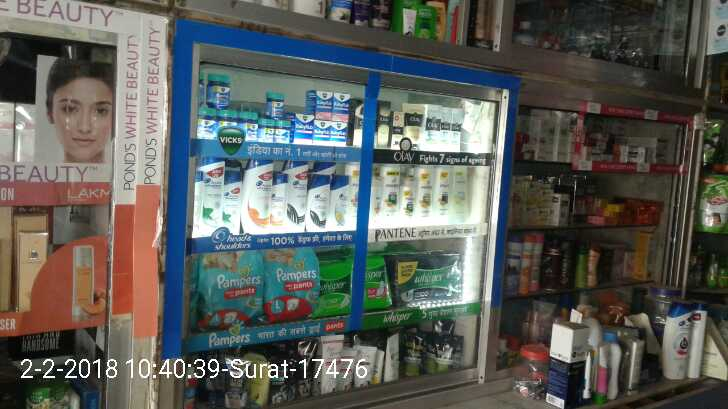beauty: (231, 157, 271, 236), (192, 158, 221, 230), (280, 162, 308, 236), (306, 178, 328, 225)
pharmacy: (199, 65, 355, 149), (197, 250, 267, 326), (261, 248, 321, 322), (385, 250, 462, 299)
